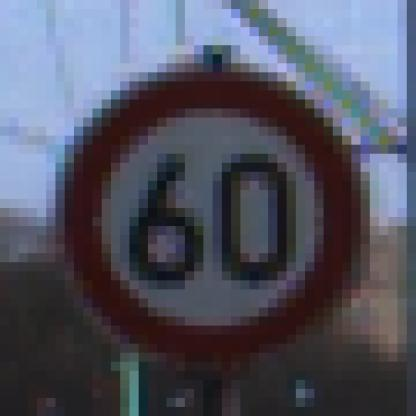Speed Limit 60: (74, 77, 350, 350)
